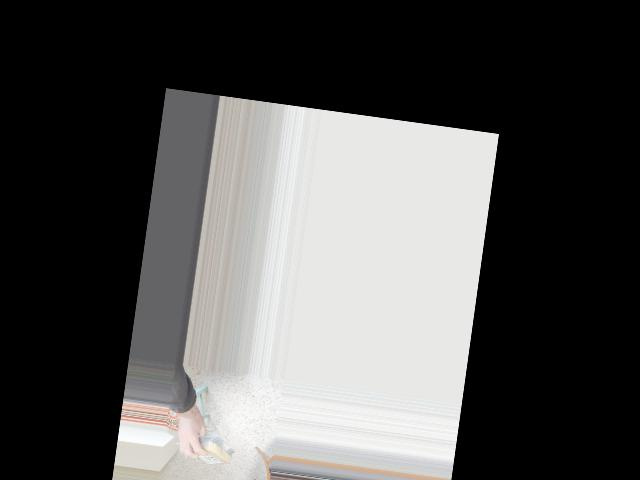cheese: (180, 430, 237, 470)
